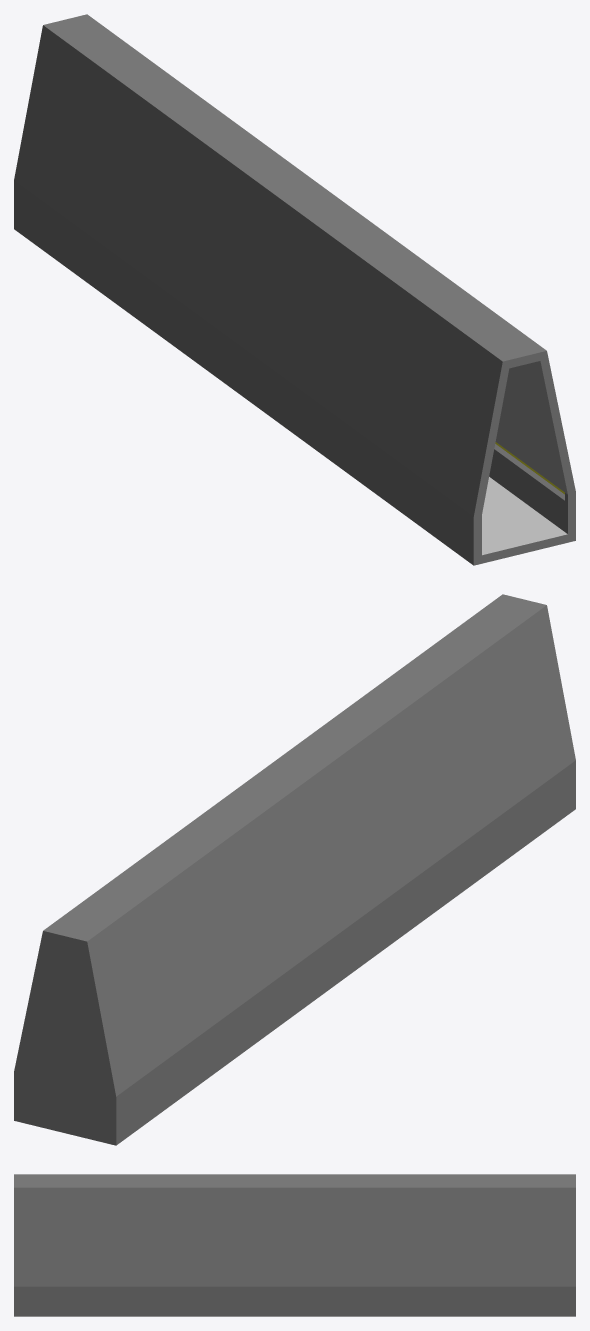
The model's file is DustCityEntry.fbx.
The picture shows the model from 3 angles, top to bottom: view 1: azimuth 30°, elevation 25°; view 2: azimuth 150°, elevation 25°; view 3: azimuth 270°, elevation 25°; orthographic projection. The views are drawn at different scales.
Parts seen in each view (by area): view 1: DustCityTunnelEntry; view 2: DustCityTunnelEntry; view 3: DustCityTunnelEntry.
Part boxes in pixels (left/top/right/bottom): DustCityTunnelEntry: left=14, top=14, right=575, bottom=565; DustCityTunnelEntry: left=14, top=594, right=575, bottom=1145; DustCityTunnelEntry: left=14, top=1174, right=575, bottom=1316.
Size of the model in its own units: 42.56 by 78.41 by 332.
